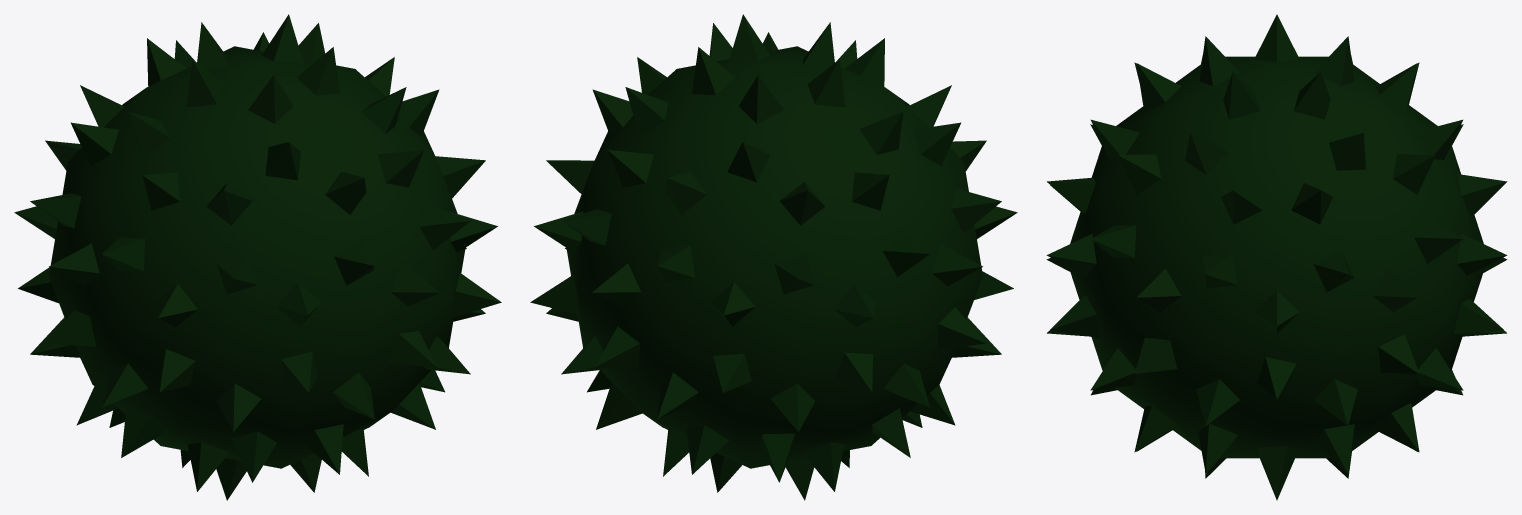
File: spikeball.obj
The picture shows the model from 3 angles, left to right: view 1: azimuth 30°, elevation 25°; view 2: azimuth 150°, elevation 25°; view 3: azimuth 270°, elevation 25°; orthographic projection.
Parts seen in each view (by area): view 1: Icosphere; view 2: Icosphere; view 3: Icosphere.
Part boxes in pixels (x1,y1,x2,y2): Icosphere: (14, 14, 501, 500); Icosphere: (530, 14, 1017, 500); Icosphere: (1046, 14, 1507, 500).
Size of the model in its own units: 2.3 by 2.21 by 2.18.
